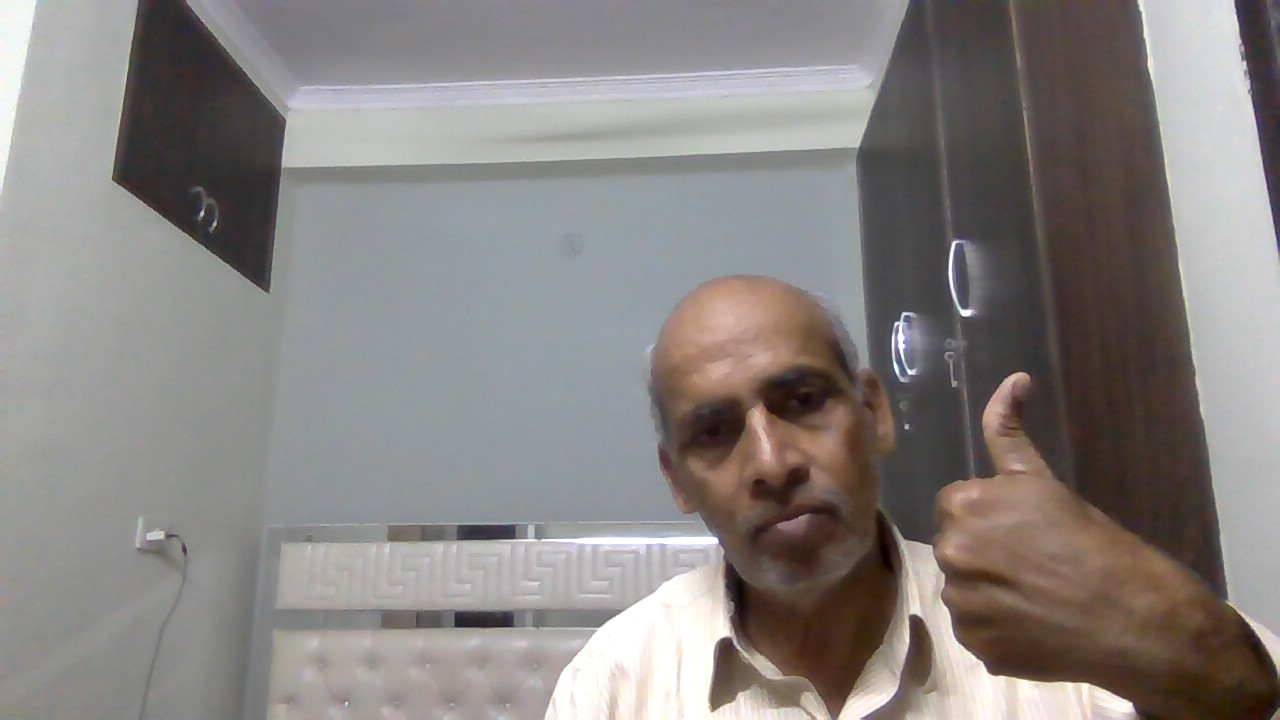Save: (918, 360, 1204, 705)
